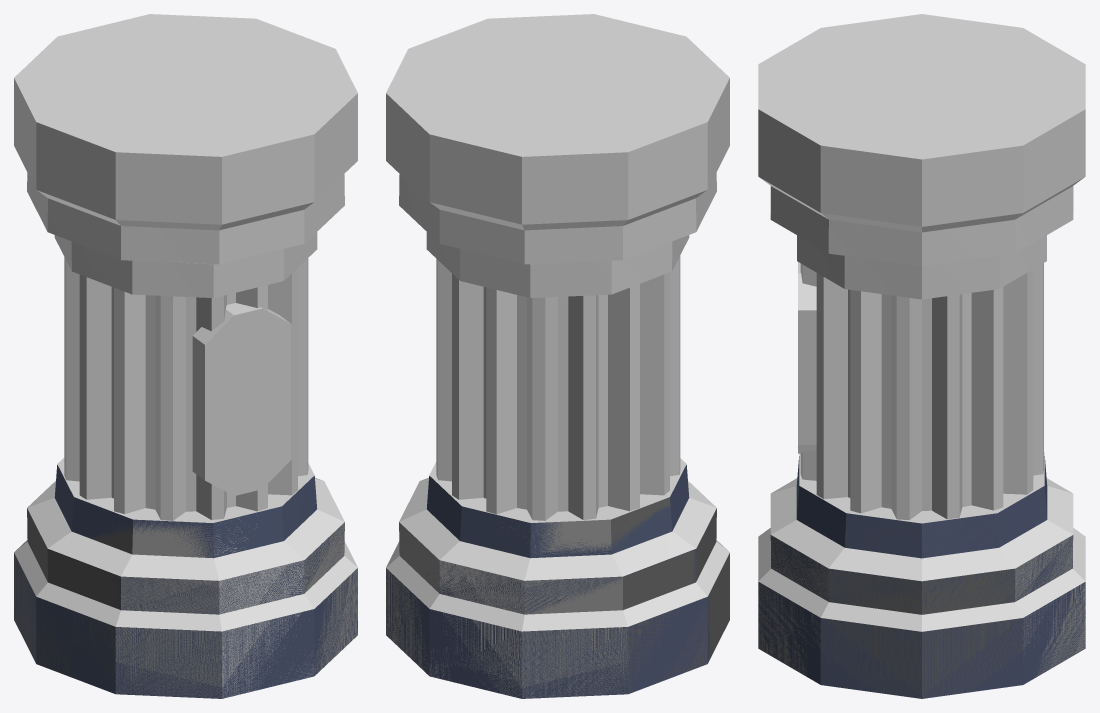
File: torrecita.gltf
3 renders of one model, left to right at view 1: azimuth 30°, elevation 25°; view 2: azimuth 150°, elevation 25°; view 3: azimuth 270°, elevation 25°, orthographic.
Visible parts, largest first — view 1: pCylinder12_q00589_part1_VC; view 2: pCylinder12_q00589_part1_VC; view 3: pCylinder12_q00589_part1_VC.
Boxes of the visible parts, x1,y1,x2,y2 form: pCylinder12_q00589_part1_VC: [14, 14, 357, 698]; pCylinder12_q00589_part1_VC: [386, 14, 729, 698]; pCylinder12_q00589_part1_VC: [758, 14, 1085, 698].
Size of the model in its own units: 3.47 by 6 by 3.3.
Materials: 7 (6 with a texture image).
